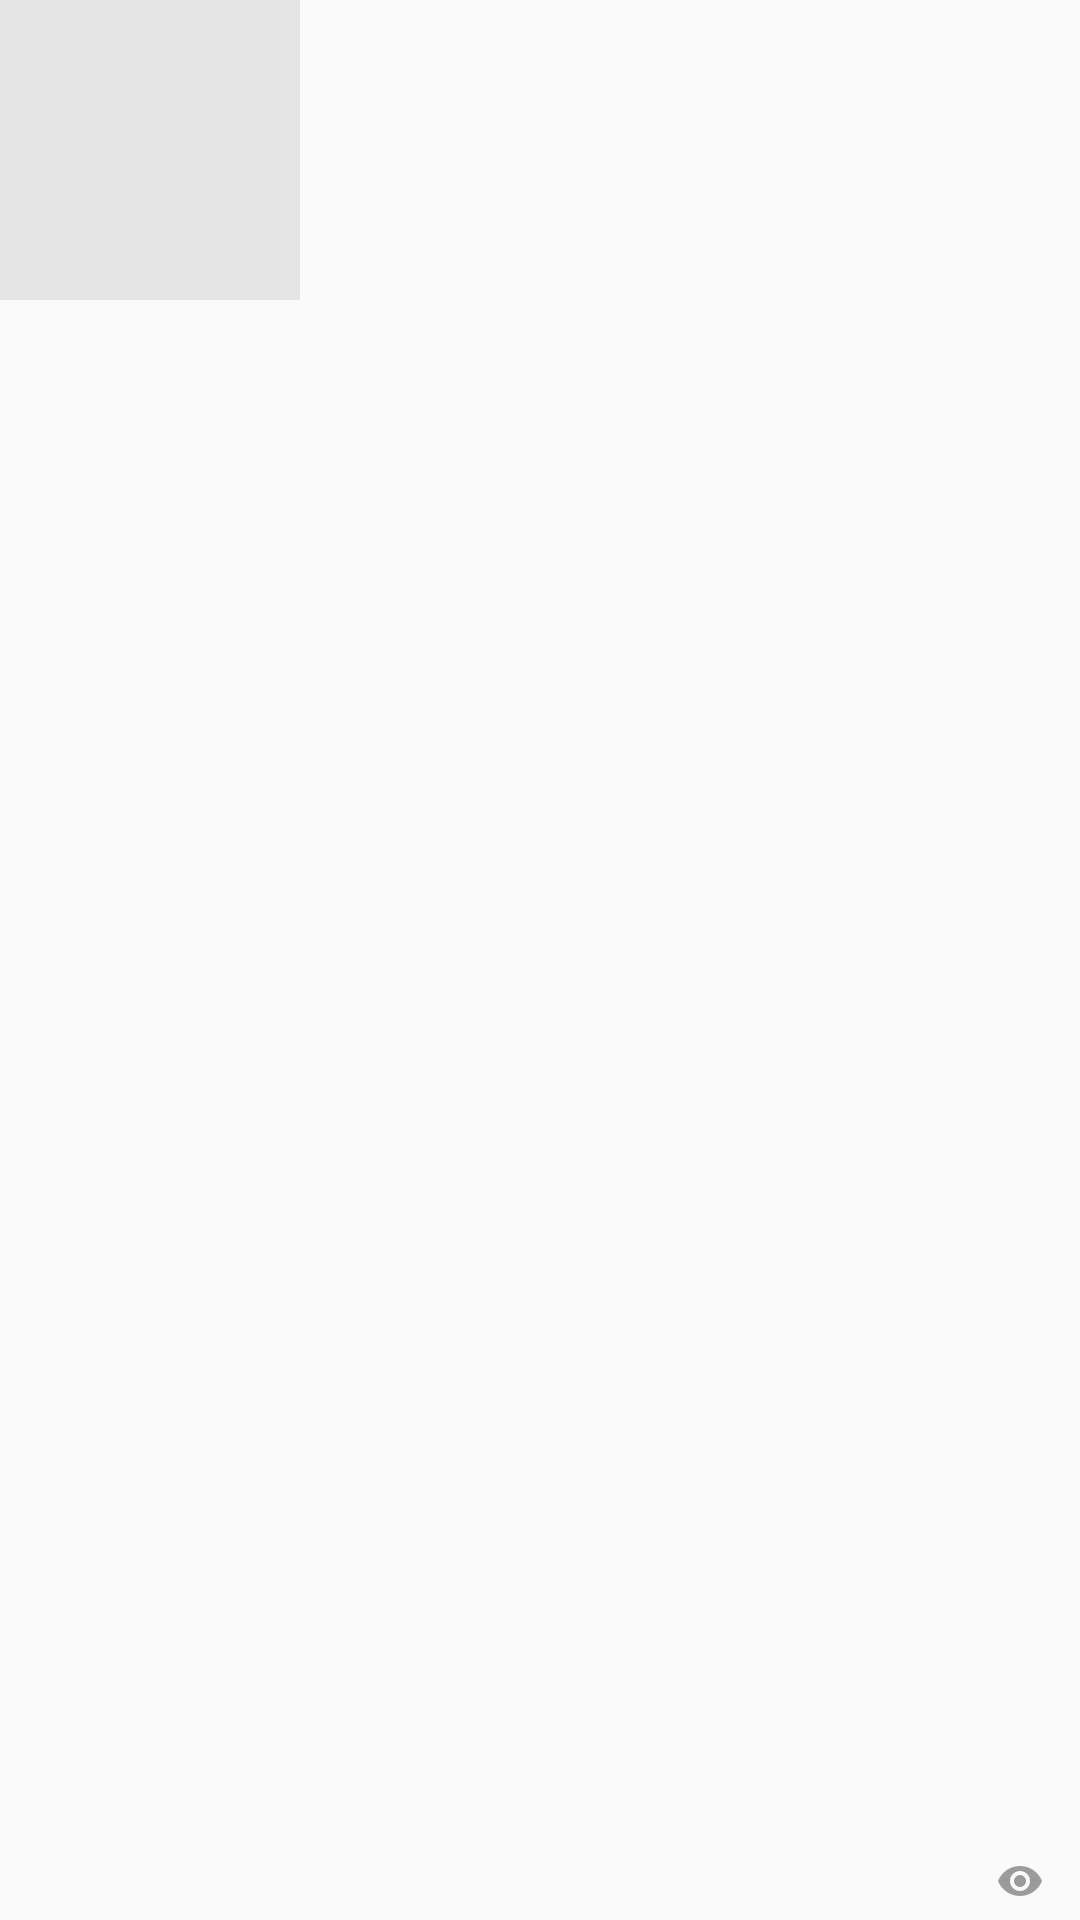

Icon click points for this 1080px×1920px phone screenshot, format (x=x, y=y):
visibility: (x=1020, y=1881)
